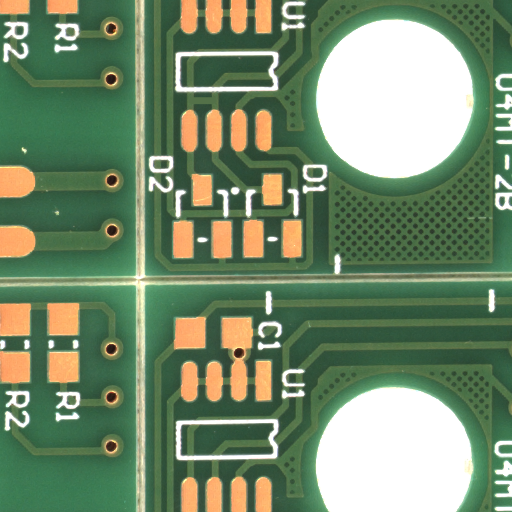Short: (201, 100, 228, 115)
